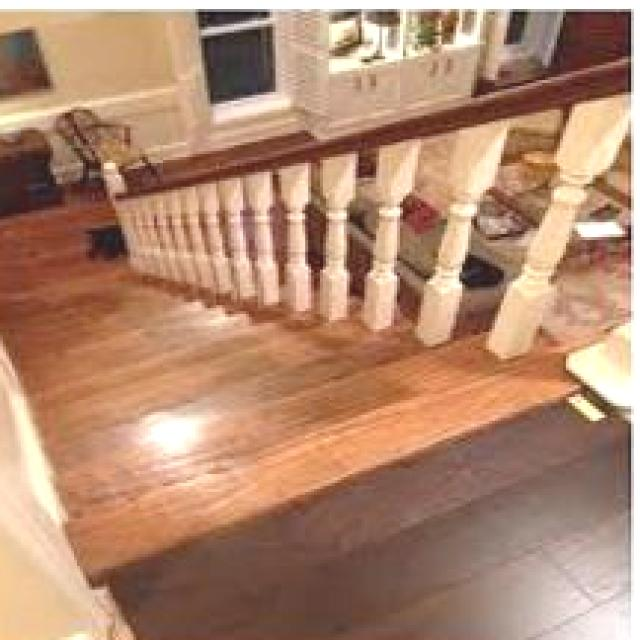downstair: (52, 345, 446, 540)
